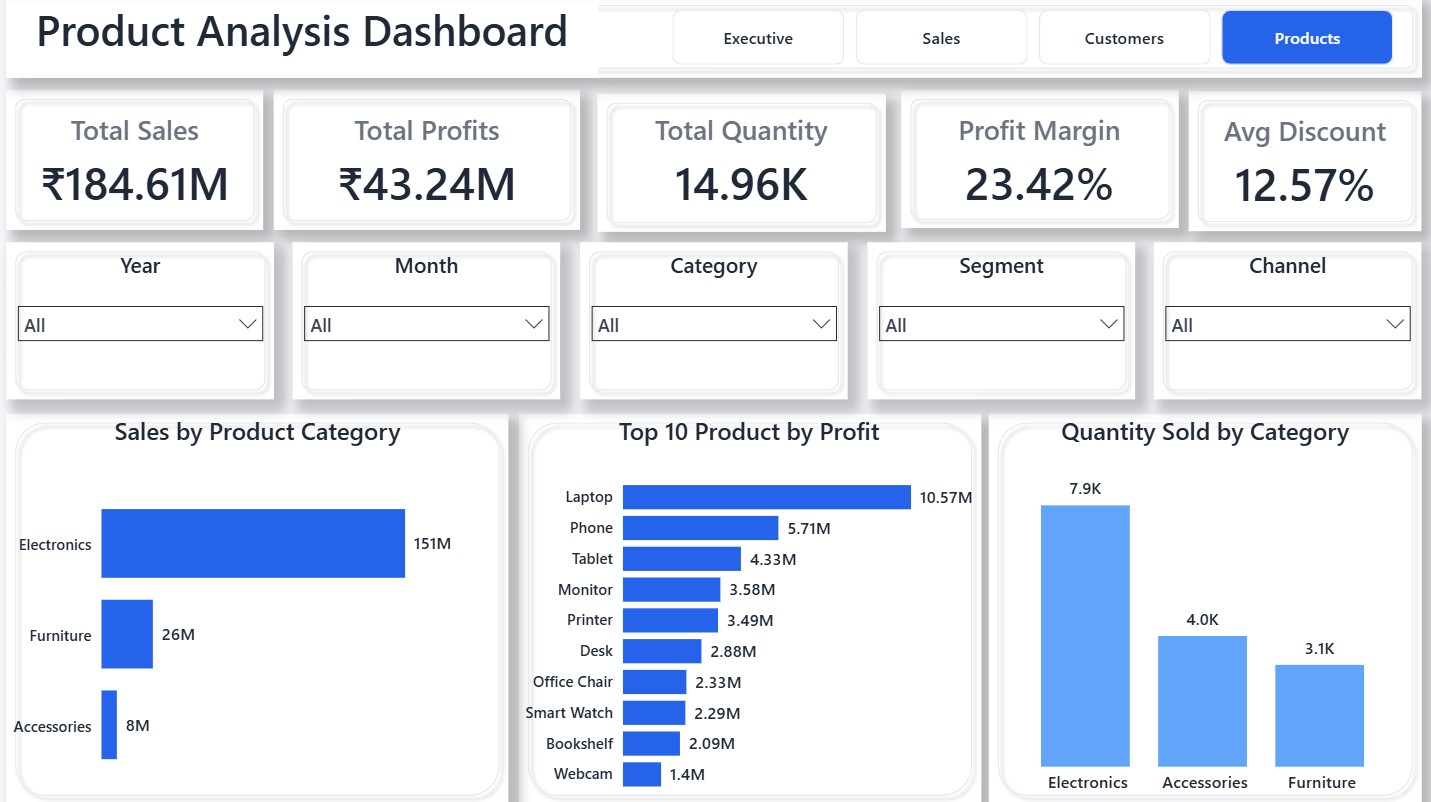

What the dashboard file says about the page in this screenshot:
{"tool":"powerbi","page":{"name":"Products","canvas":[1280,720],"ordinal":3},"visuals":[{"type":"shape","box":[9.6,83.7,229.2,124.9],"z":0},{"type":"cardVisual","fields":{"Data":["MEASURE.total sales"]},"box":[9.6,86.4,229.2,122.1],"z":1000},{"type":"shape","box":[248.4,83.7,273.1,124.9],"z":2000},{"type":"shape","box":[536.5,86.4,256.6,123.5],"z":3000},{"type":"shape","box":[806.9,83.7,247,123.5],"z":4000},{"type":"shape","box":[1063.5,85.1,207.2,124.9],"z":5000},{"type":"cardVisual","fields":{"Data":["MEASURE.total profits"]},"box":[248.4,86.4,273.1,122.1],"z":6000},{"type":"cardVisual","fields":{"Data":["MEASURE.total quantity sold"]},"box":[536.5,86.4,256.6,122.1],"z":7000},{"type":"cardVisual","fields":{"Data":["MEASURE.profit margin %"]},"box":[806.9,86.4,247,122.1],"z":8000},{"type":"cardVisual","fields":{"Data":["MEASURE.average discount"]},"box":[1063.5,86.4,207.2,123.5],"z":9000},{"type":"shape","box":[9.6,0,1261.1,72.7],"z":10000},{"type":"shape","box":[466.6,371.9,411.7,348.5],"z":11000},{"type":"shape","box":[885.1,371.9,385.6,348.5],"z":12000},{"type":"shape","box":[9.6,371.9,447.3,348.5],"z":13000},{"type":"clusteredBarChart","title":"Top 10 Product by Profit","fields":{"Category":["DIM_PRODUCT.PRODUCT_NAME"],"Y":["MEASURE.total profits"]},"box":[466.6,371.9,410.3,348.5],"z":14000},{"type":"clusteredColumnChart","title":"Quantity Sold by Category","fields":{"Category":["DIM_PRODUCT.CATEGORY"],"Y":["MEASURE.total quantity sold"]},"box":[885.1,371.9,385.6,348.5],"z":15000},{"type":"shape","box":[9.6,219.6,238.8,140],"z":16000},{"type":"slicer","title":"Year","fields":{"Values":["DIM_DATE.YEAR"]},"box":[9.6,219.6,238.8,140],"z":17000},{"type":"textbox","box":[9.6,0,526.9,72.7],"z":18000},{"type":"shape","box":[264.8,219.6,238.8,140],"z":19000},{"type":"shape","box":[521.4,219.6,238.8,140],"z":20000},{"type":"shape","box":[776.7,219.6,238.8,140],"z":21000},{"type":"shape","box":[1031.9,219.6,238.8,140],"z":22000},{"type":"slicer","title":"Month","fields":{"Values":["DIM_DATE.MONTH_NUMBER"]},"box":[264.8,219.6,238.8,140],"z":23000},{"type":"slicer","title":"Category","fields":{"Values":["DIM_PRODUCT.CATEGORY"]},"box":[521.4,219.6,238.8,140],"z":24000},{"type":"slicer","title":"Segment","fields":{"Values":["DIM_CUSTOMER.CUSTOMER_SEGMENT"]},"box":[776.7,219.6,238.8,140],"z":25000},{"type":"slicer","title":"Channel","fields":{"Values":["FACT_SALES.CHANNEL"]},"box":[1031.9,219.6,238.8,140],"z":26000},{"type":"clusteredBarChart","title":"Sales by Product Category","fields":{"Y":["MEASURE.total sales"],"Category":["DIM_PRODUCT.CATEGORY"]},"box":[9.6,371.9,447.3,348.5],"z":27000},{"type":"pageNavigator","box":[603.8,12.3,643.6,49.4],"z":28000}]}

Visuals, with their boxes in screenshot pixels (x1, y1, x2, y2), scaled from the page's 1280x720 canvas onto the 1431x802 screenshot:
shape: (11,93,267,232)
cardVisual - MEASURE.total sales: (11,96,267,232)
shape: (278,93,583,232)
shape: (600,96,887,234)
shape: (902,93,1178,231)
shape: (1189,95,1421,234)
cardVisual - MEASURE.total profits: (278,96,583,232)
cardVisual - MEASURE.total quantity sold: (600,96,887,232)
cardVisual - MEASURE.profit margin %: (902,96,1178,232)
cardVisual - MEASURE.average discount: (1189,96,1421,234)
shape: (11,0,1421,81)
shape: (522,414,982,801)
shape: (990,414,1421,801)
shape: (11,414,511,801)
"Top 10 Product by Profit" clusteredBarChart: (522,414,980,801)
"Quantity Sold by Category" clusteredColumnChart: (990,414,1421,801)
shape: (11,245,278,401)
"Year" slicer: (11,245,278,401)
textbox: (11,0,600,81)
shape: (296,245,563,401)
shape: (583,245,850,401)
shape: (868,245,1135,401)
shape: (1154,245,1421,401)
"Month" slicer: (296,245,563,401)
"Category" slicer: (583,245,850,401)
"Segment" slicer: (868,245,1135,401)
"Channel" slicer: (1154,245,1421,401)
"Sales by Product Category" clusteredBarChart: (11,414,511,801)
pageNavigator: (675,14,1395,69)
